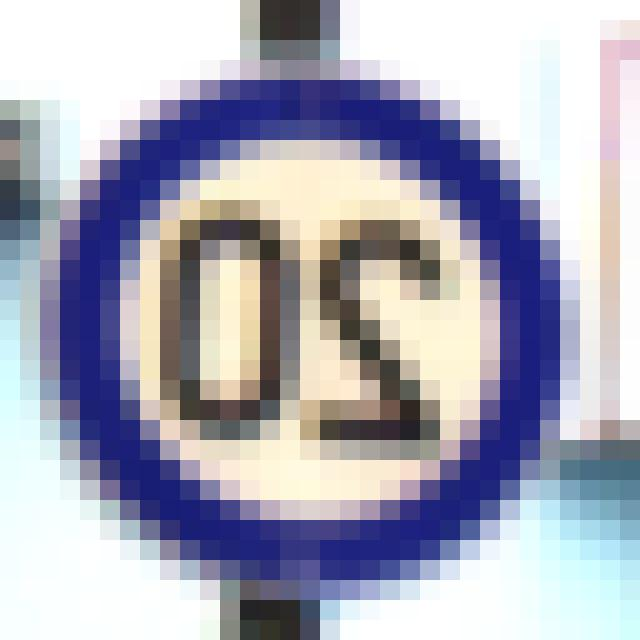SPEED LIMIT 20: (36, 71, 598, 591)
